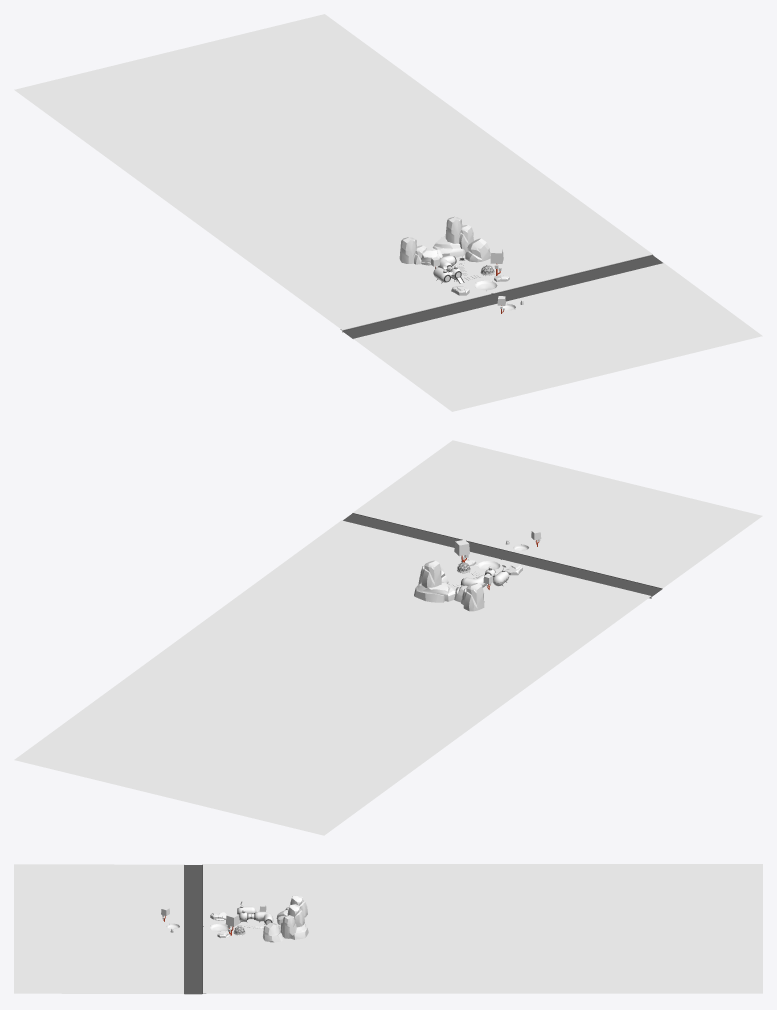
The model's file is BackGround_6.fbx.
3 renders of one model, top to bottom at view 1: azimuth 30°, elevation 25°; view 2: azimuth 150°, elevation 25°; view 3: azimuth 270°, elevation 25°, orthographic. The views are drawn at different scales.
Visible parts, largest first — view 1: floor, pasted__polySurface198; view 2: floor, pasted__polySurface198; view 3: floor, pasted__polySurface198, polySurface31.
Part boxes in pixels (bbox=[...]): floor: bbox=[14, 14, 762, 411]; pasted__polySurface198: bbox=[399, 216, 490, 265]; floor: bbox=[14, 440, 762, 835]; pasted__polySurface198: bbox=[414, 560, 484, 611]; floor: bbox=[14, 864, 762, 994]; pasted__polySurface198: bbox=[263, 895, 308, 942]; polySurface31: bbox=[237, 901, 273, 924].
Bounding box in the file's own units: 12660 × 1948 × 30888.
Materials: 1 (1 with a texture image).
